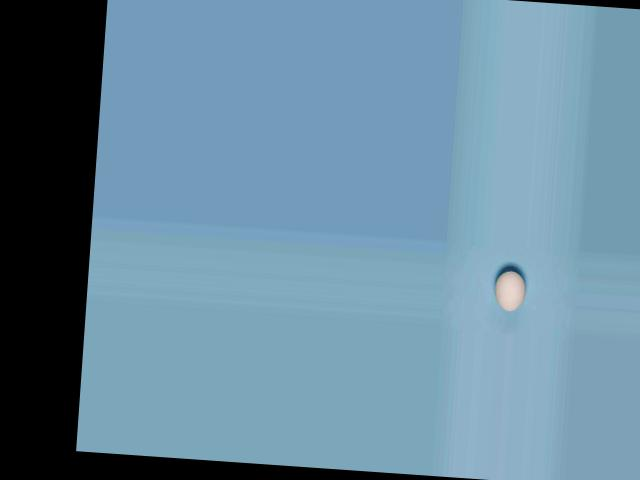egg: (493, 269, 526, 312)
